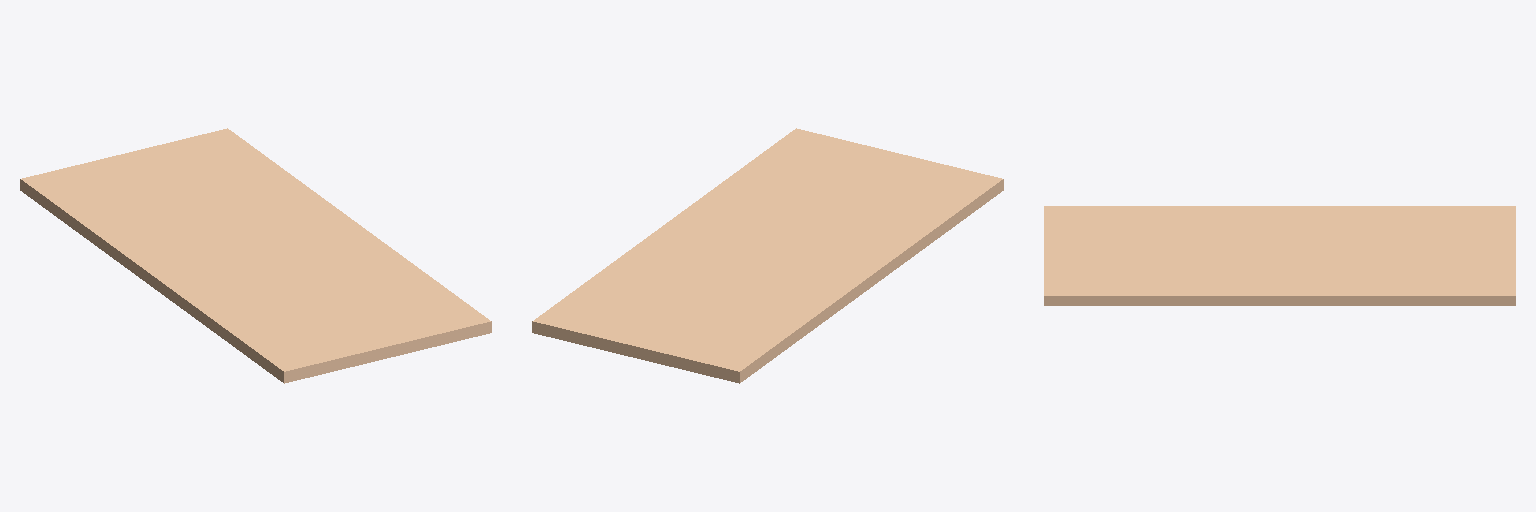
URDF robot description (myfirst):
<?xml version="1.0"?>
 <robot name="myfirst">
   <material name="PeachPuff">
     <color rgba="1 0.8549 0.72549 1"/>
   </material>
   <link name="right_leg">
     <visual>
       <geometry>
         <box size="0.3315 0.73 0.018"/>
       </geometry>
       <material name="PeachPuff"/>
     </visual>
     <collision>
       <geometry>
         <box size="0.3315 0.73 0.018"/>
       </geometry>
     </collision>
     <inertial>
       <mass value="1"/>
       <inertia ixx="1.0" ixy="0.0" ixz="0.0" iyy="1.0" iyz="0.0" izz="1.0"/>
     </inertial>
   </link>
 </robot>

--- What the picture shows (computed from the rendered views, not written in the file) ---
3 views of the same robot in one strip: view 1: azimuth 30°, elevation 25°; view 2: azimuth 150°, elevation 25°; view 3: azimuth 270°, elevation 25° (orthographic).
Model myfirst with 1 links and 0 joints (none), rooted at right_leg, posed every joint at zero.
Visible links, largest first — view 1: right_leg; view 2: right_leg; view 3: right_leg.
Link boxes in pixels (x1,y1,x2,y2): right_leg: (20,128,491,383); right_leg: (532,128,1003,383); right_leg: (1044,206,1515,305).
Bounding box of the posed robot: 0.3315 × 0.73 × 0.018 m (x, y, z).
Geometry: primitives only (box / cylinder / sphere), no mesh files.
